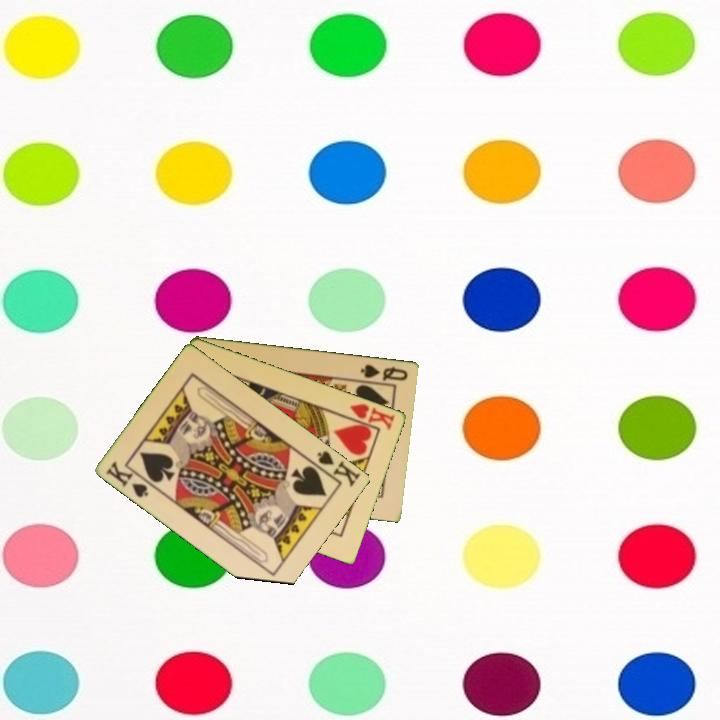Kh: (341, 400, 398, 432)
Ks: (308, 447, 364, 490), (103, 457, 152, 501)
Qs: (357, 360, 411, 383)
